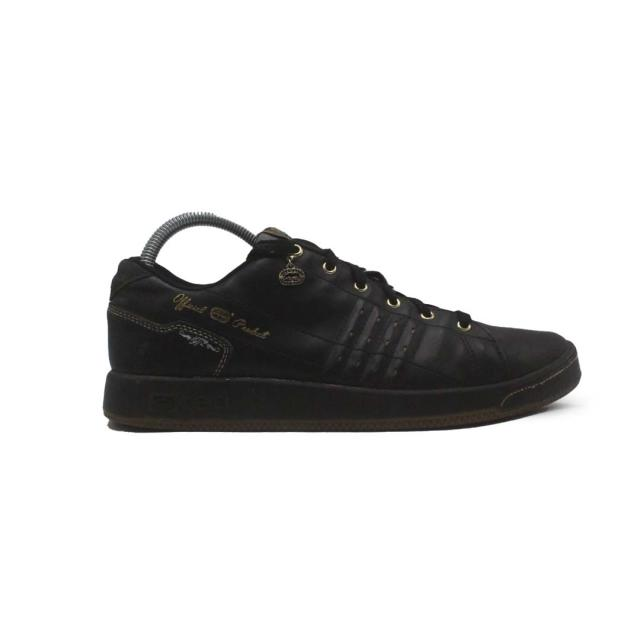heel: (107, 255, 159, 371)
midsole: (103, 356, 583, 428)
uppersole: (158, 227, 572, 392)
